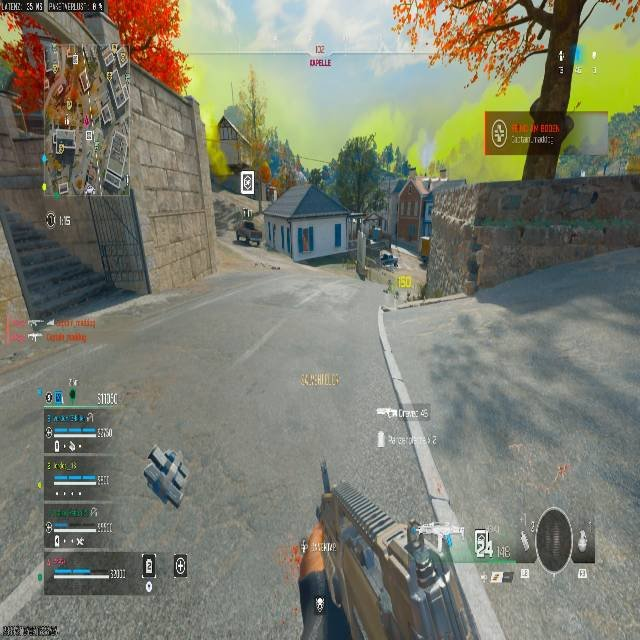player: (378, 249, 399, 295)
